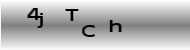4: (25, 6, 40, 20)
C: (81, 23, 96, 38)
T: (64, 7, 80, 22)
h: (108, 19, 123, 33)
j: (37, 12, 44, 29)
